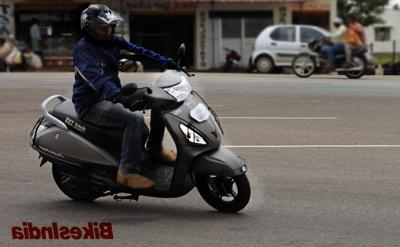With Helmet: (78, 2, 124, 49)
